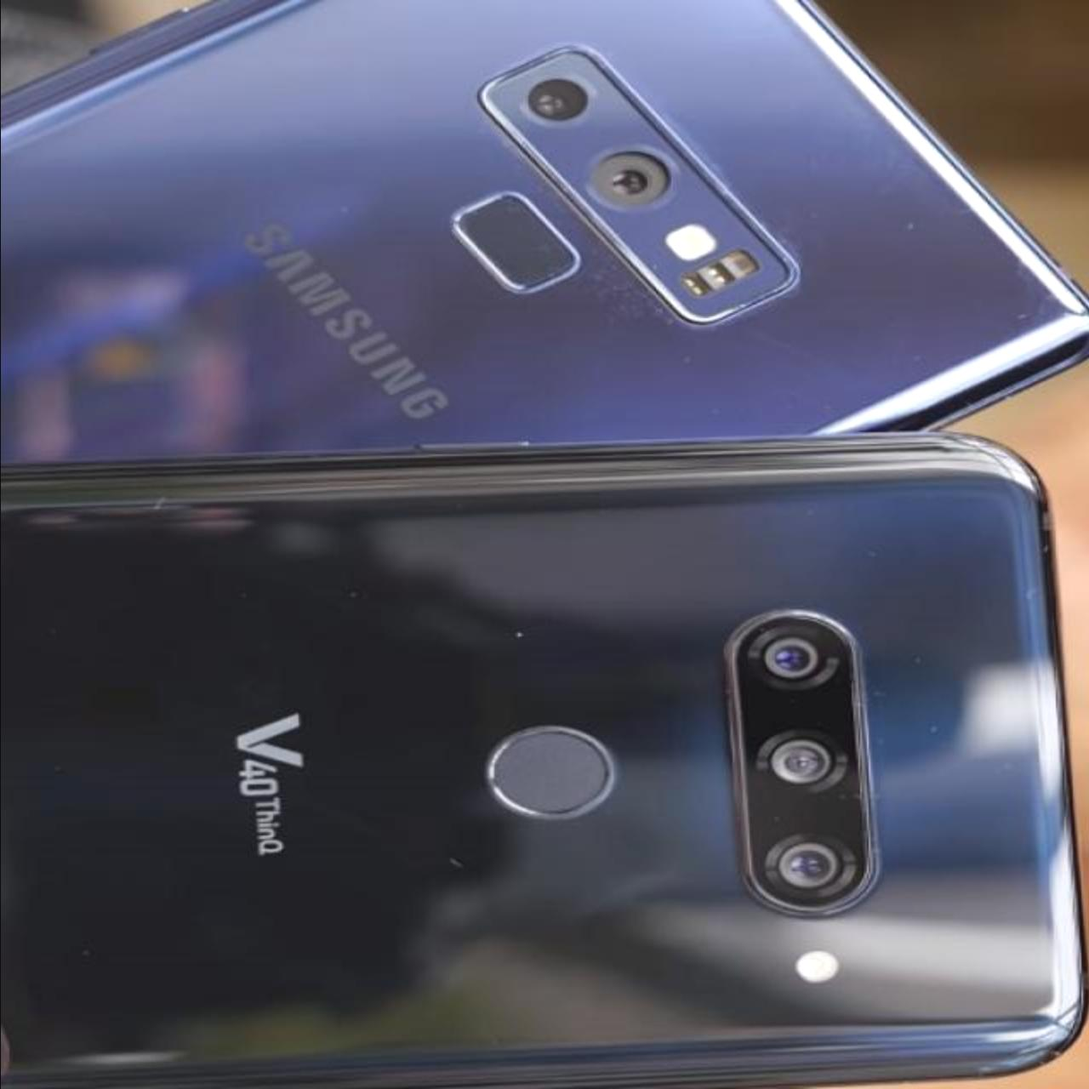phone: (0, 430, 1057, 1089), (0, 0, 1089, 478)
